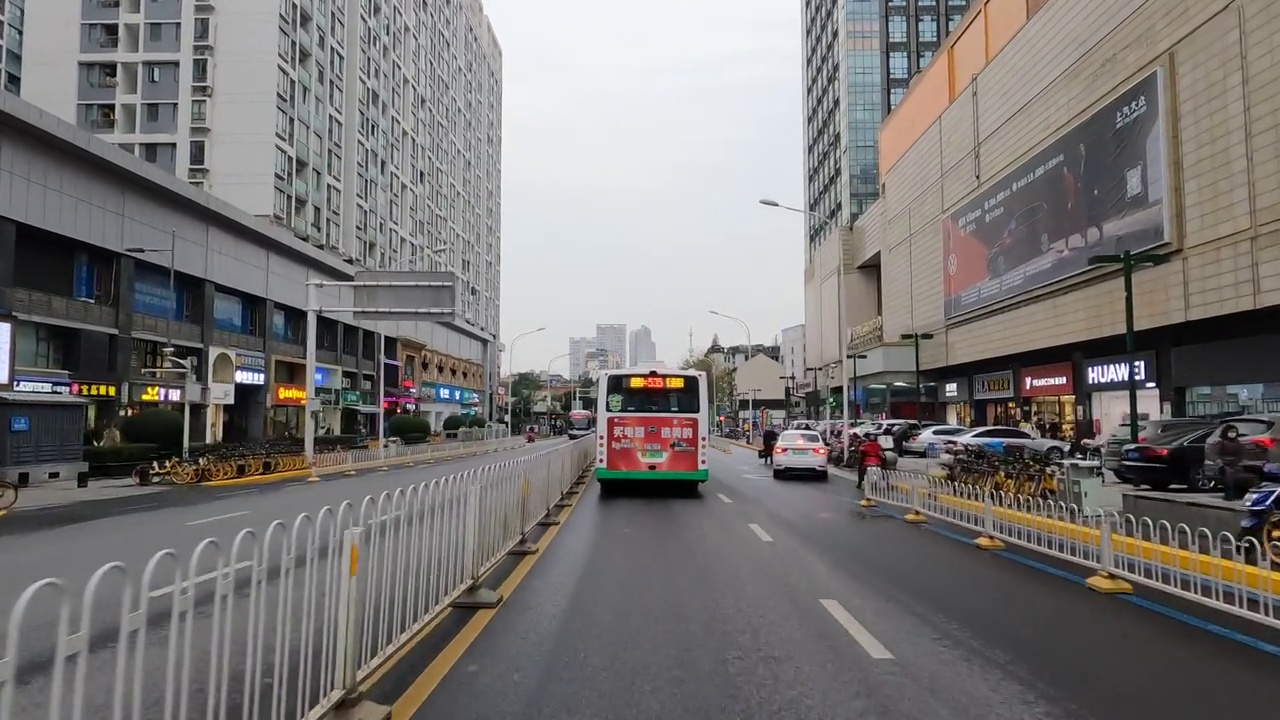lane: (350, 499, 584, 720), (982, 543, 1280, 651), (813, 595, 889, 661), (743, 520, 778, 544)
